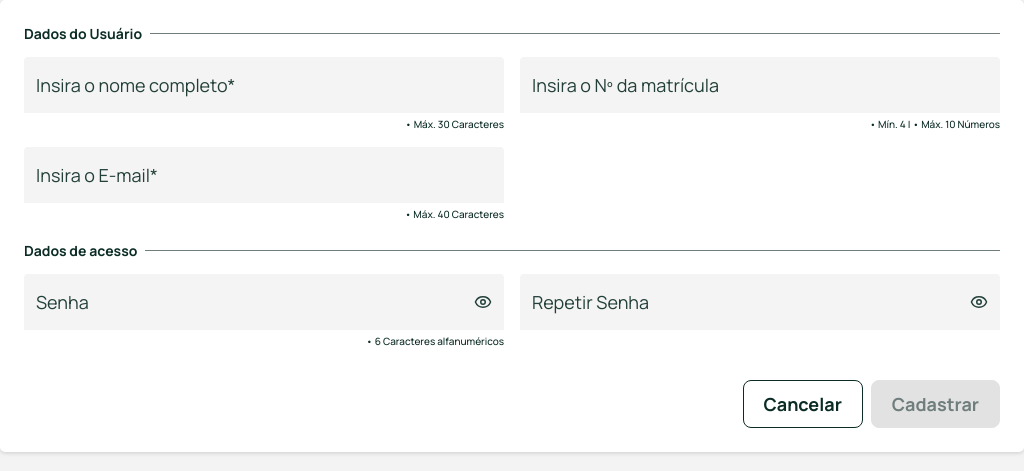
UserForm — cadastro › limita a senha a 6 caracteres
Type "Abc123456" into the password field labelled "Senha". click: (264, 302)
box: [24, 274, 504, 330]
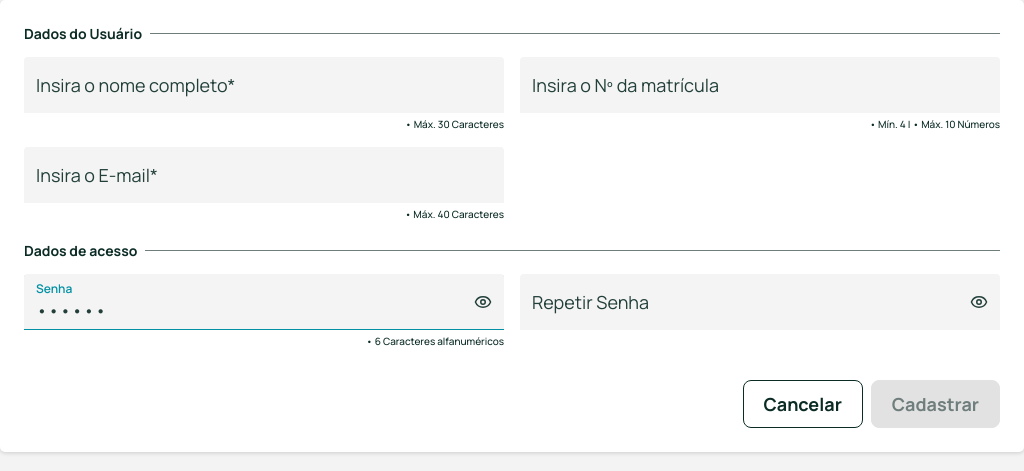
Expected: the password field labelled "Senha" holds "Abc123", [24, 274, 504, 330]
